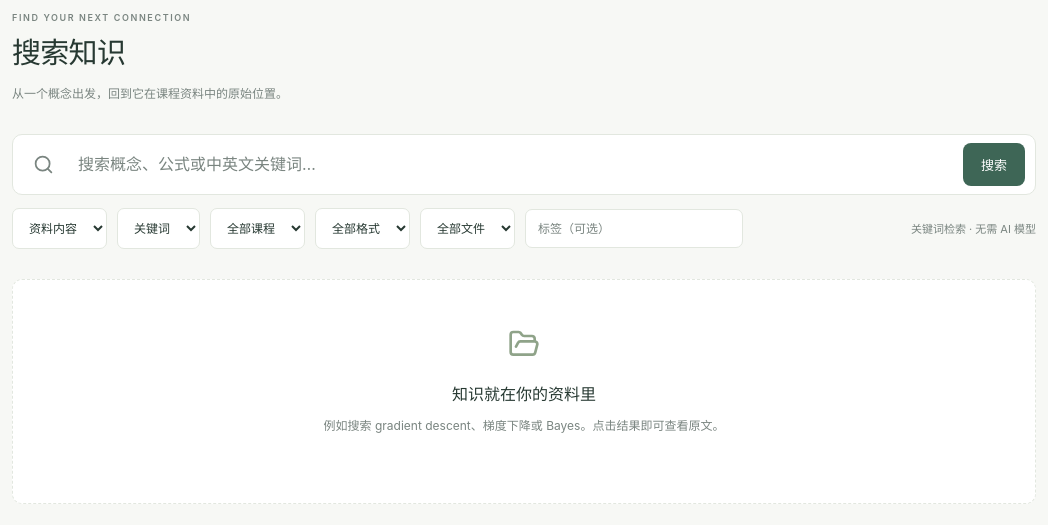
shows a result linking to the actual version and page
Type "梯度下降" into the search field at (508, 164), box [66, 144, 951, 186]
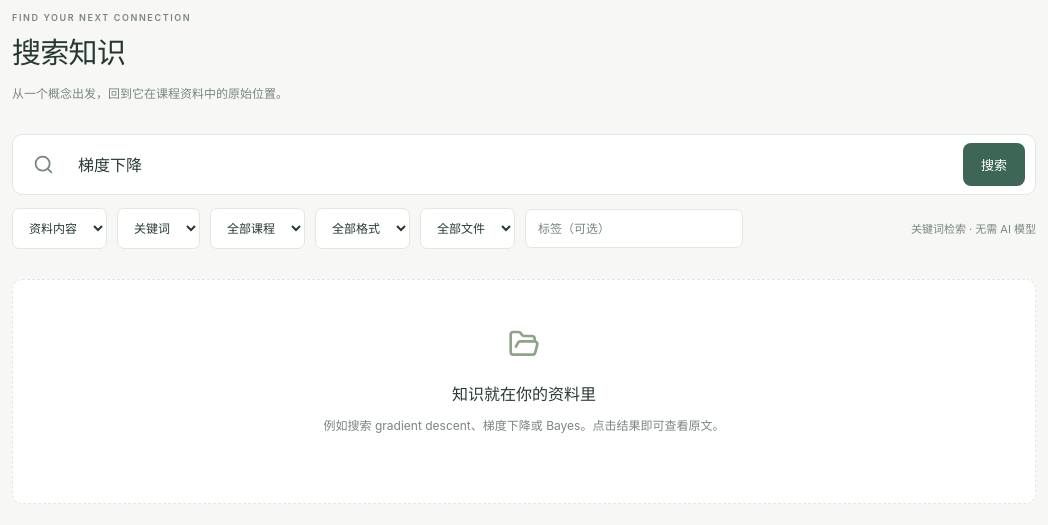
Click the button "搜索" at (994, 164), box [963, 143, 1025, 186]
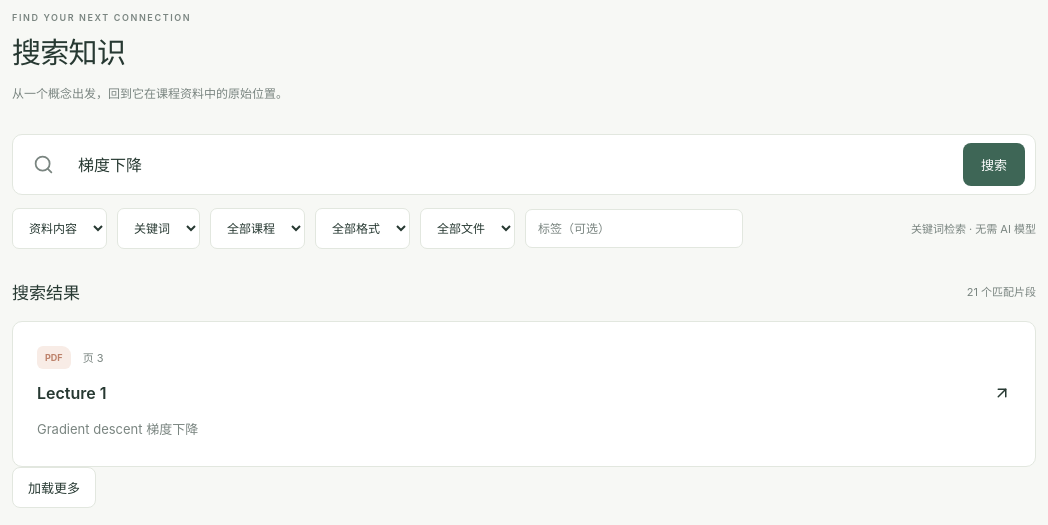
Check: the text "Gradient descent 梯度下降" is shown, box [37, 421, 198, 437]
